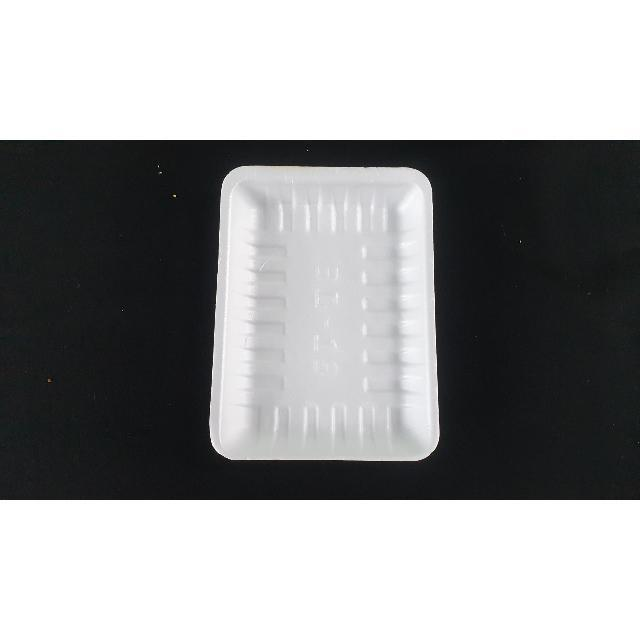Recipiente plastico: (210, 168, 439, 461)
